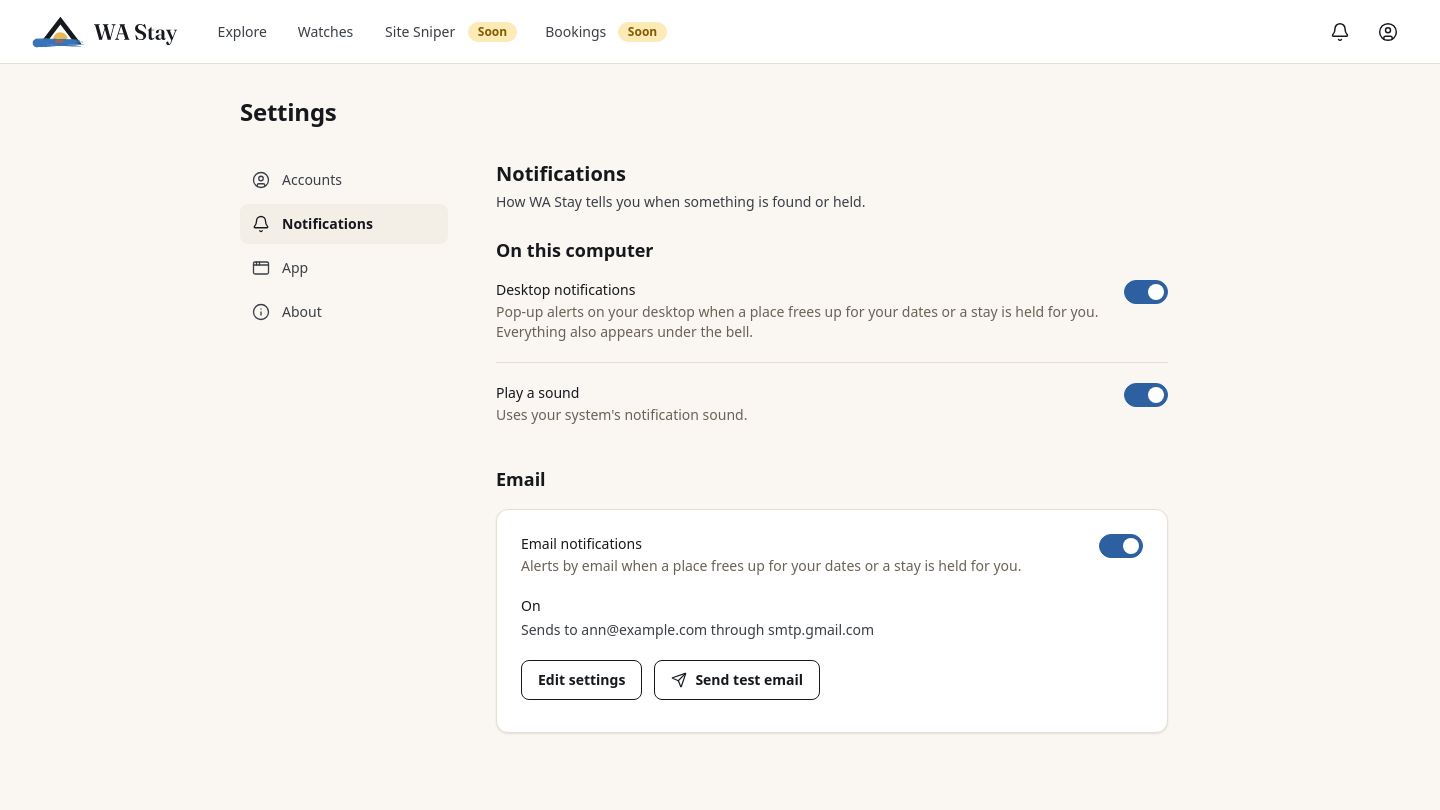
Scenario: EmailNotifierCard with a stored password (hasPassword) › a replaced password is sent once, and no query or mutation cache keeps it
Click the button "Edit settings": click(582, 680) 521,660 -> 642,700
(page scrolled)
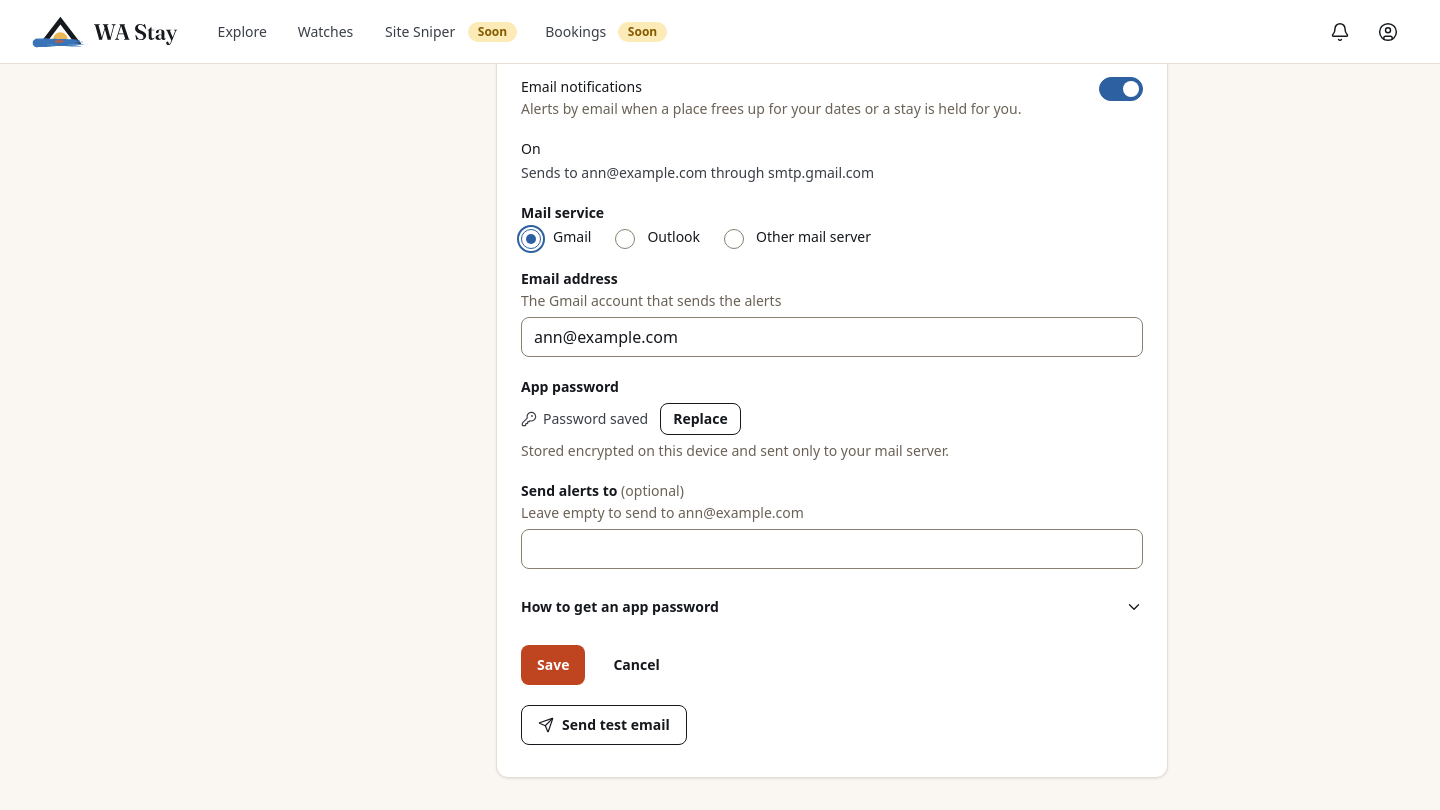
Click the button "Replace": click(700, 419) 660,403 -> 741,435
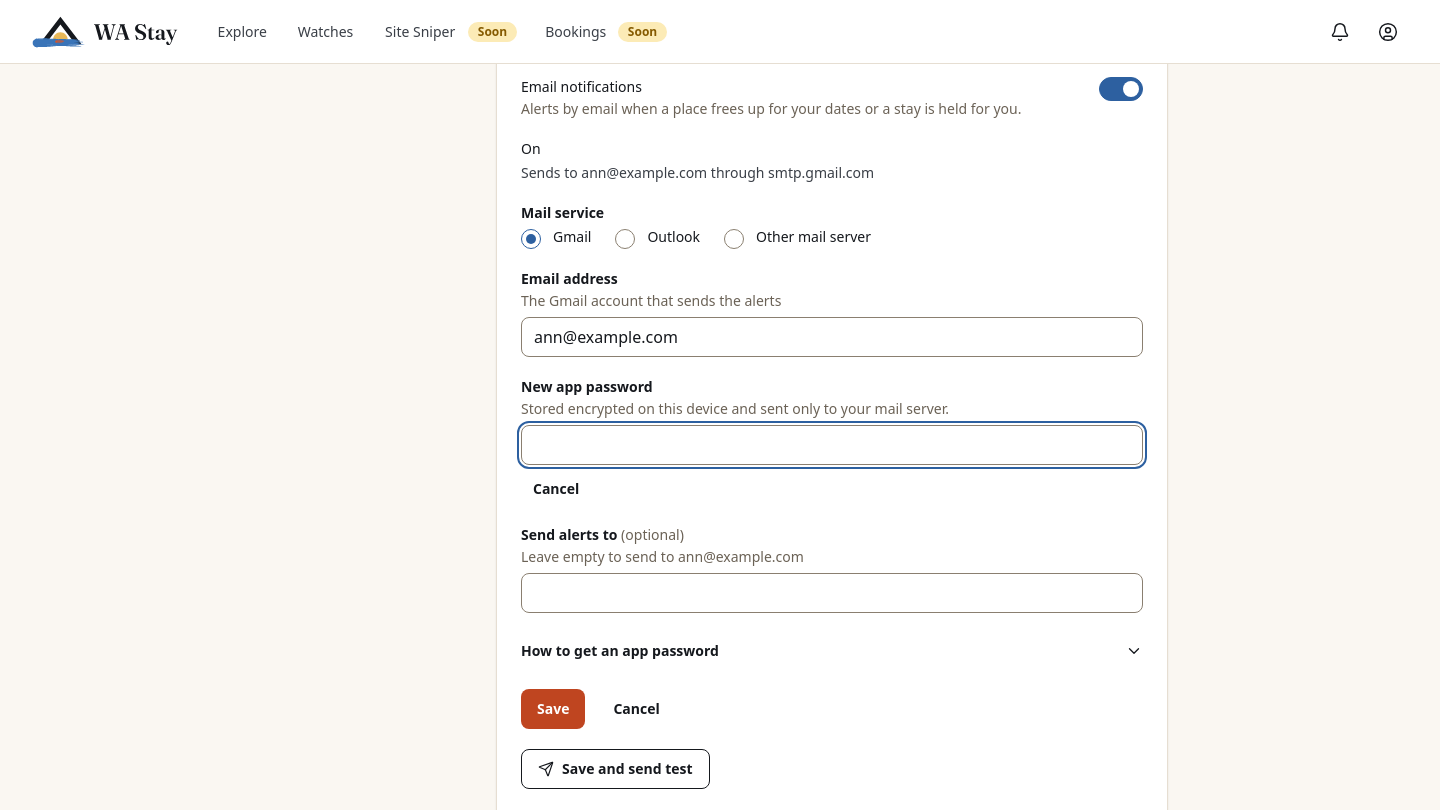
In the password field labelled "New app password": (832, 445) 521,425 -> 1143,465, type "abcd efgh ijkl mnop"
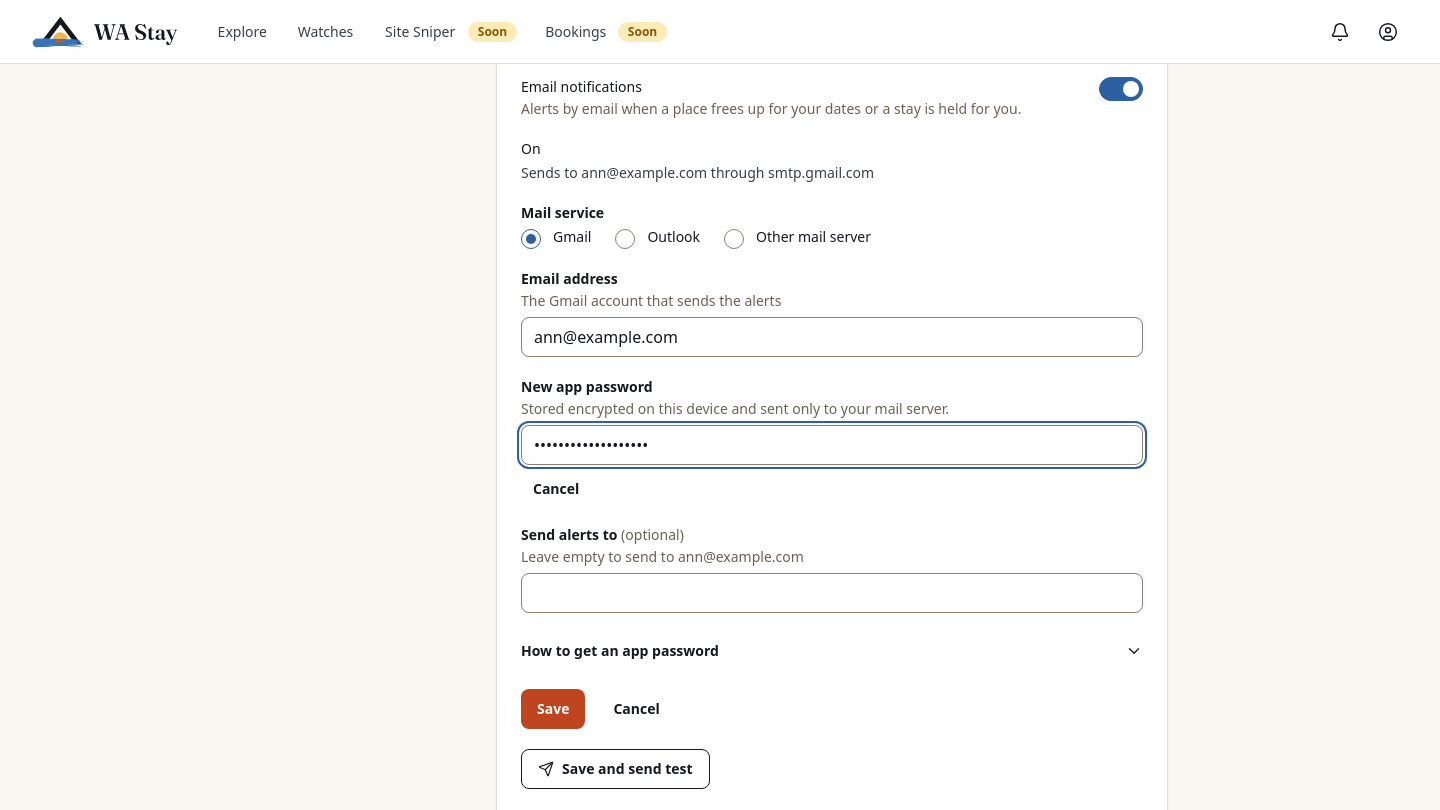
Click the button "Save": click(553, 709) 521,689 -> 585,729
(page scrolled)
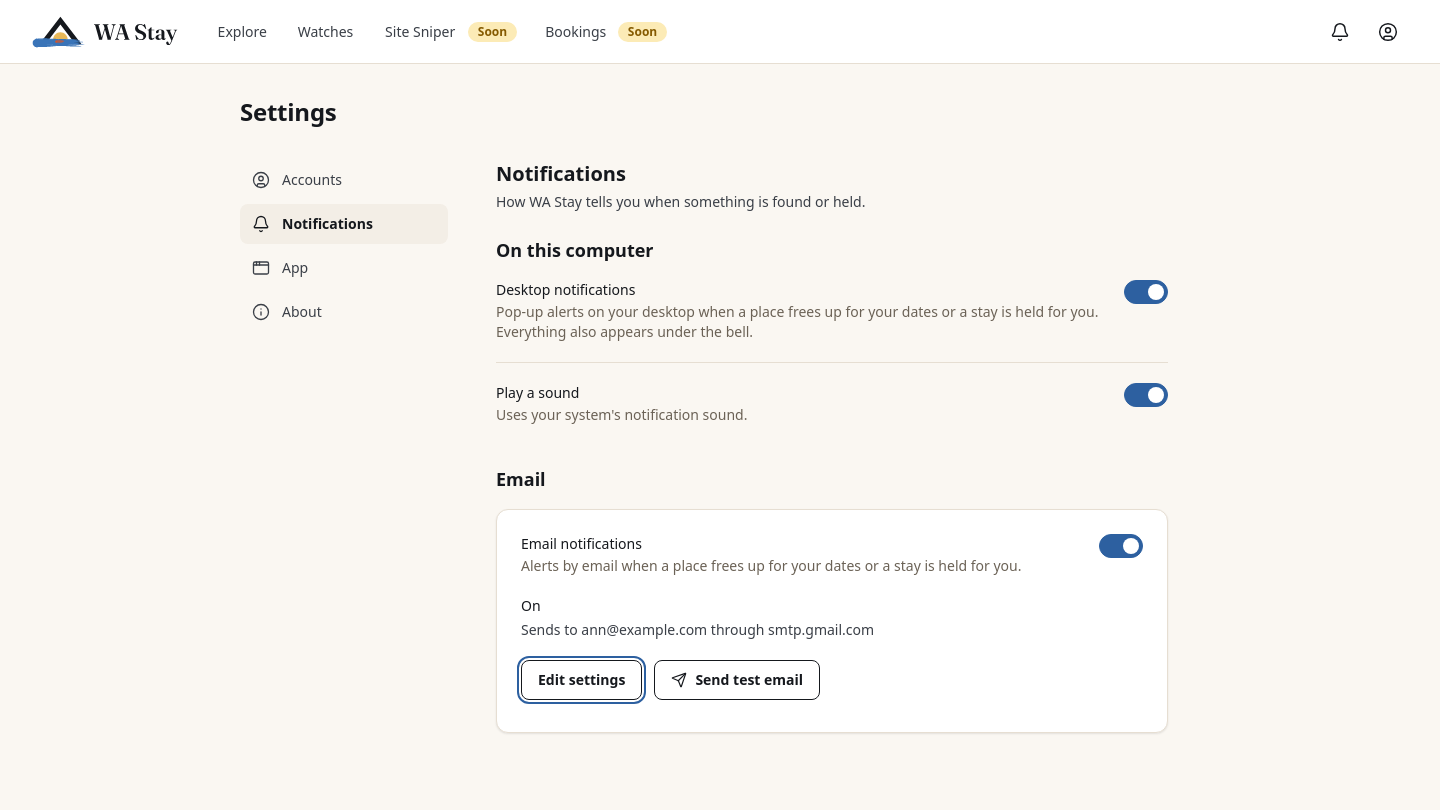
expect the button "Edit settings" is shown: met, box 521,660 -> 642,700
